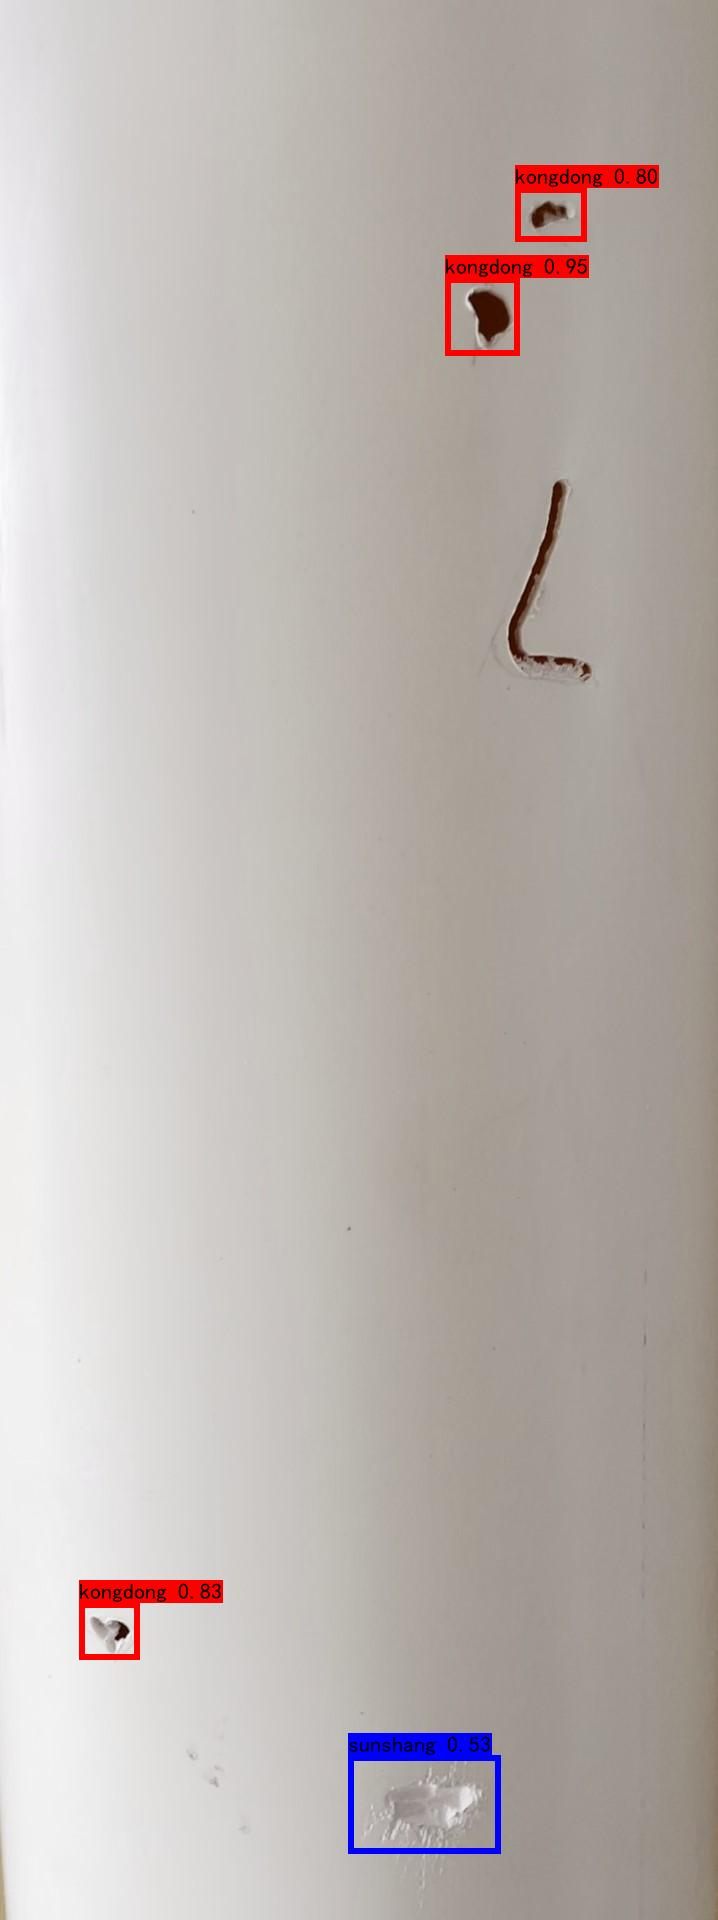fengxi: (491, 460, 611, 696)
kongdong: (455, 276, 513, 358), (78, 1599, 136, 1658), (520, 197, 582, 238)
sunshang: (375, 1767, 493, 1847)
